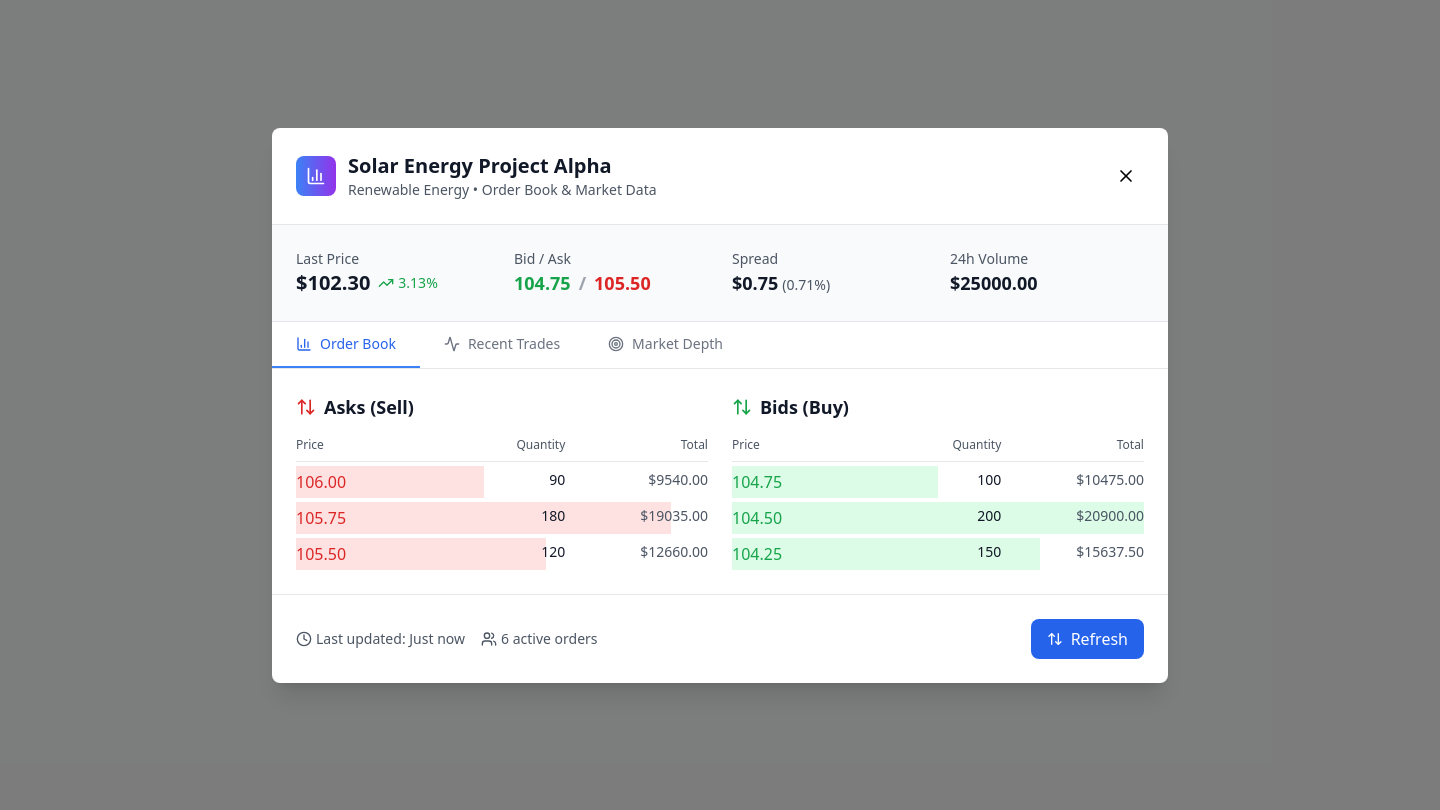
it: OrderBookModal › switches to market depth tab
The width and height of the screenshot is (1440, 810).
Click the button "Market Depth" at [666, 344], box [584,322,747,368]
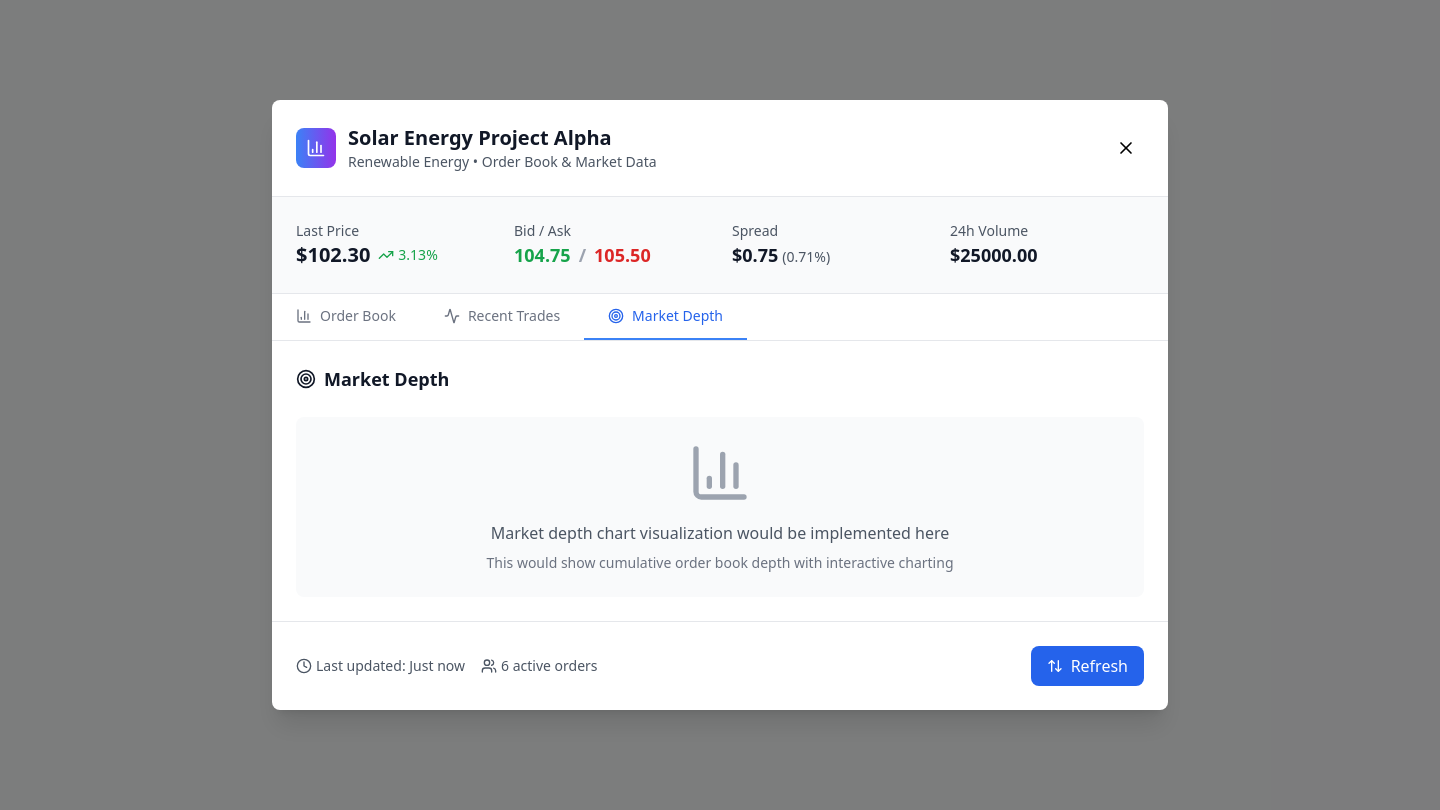
expect the text "Market Depth" is shown 2 times: met, box [632,306,723,326]; [296,367,449,391]
